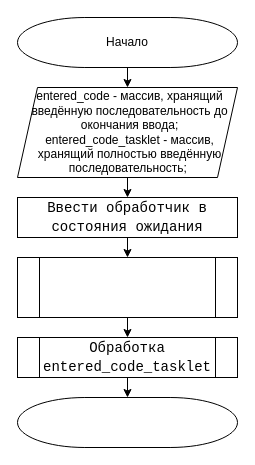
Image size: 255x465. Some labels were removed from this diagram. Here are the shapes that lost their labels. From the top down, the box of each, then its label:
(16, 256, 238, 318): Скопировать содержимое entered_code в entered_code_tasklet
(16, 396, 238, 448): Конец
